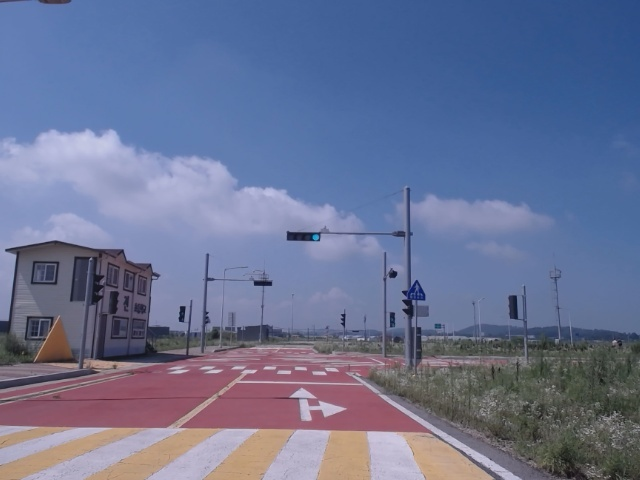straight_green_4: (287, 233, 320, 241)
